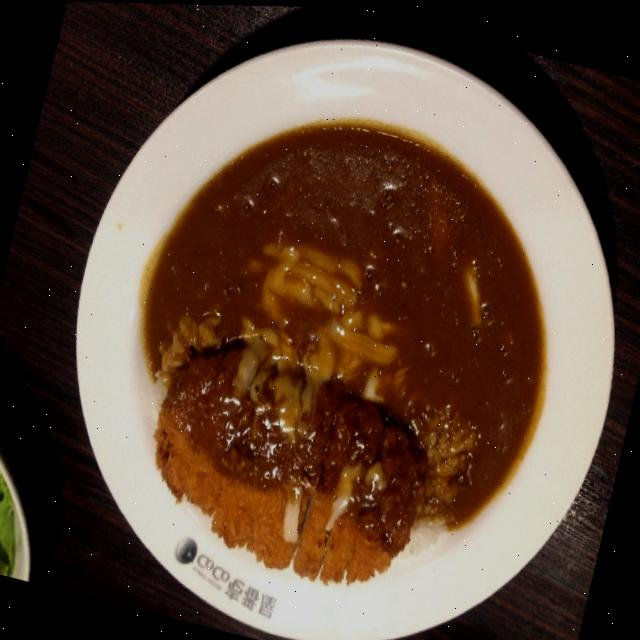猪肉菜式: (14, 0, 640, 640)
